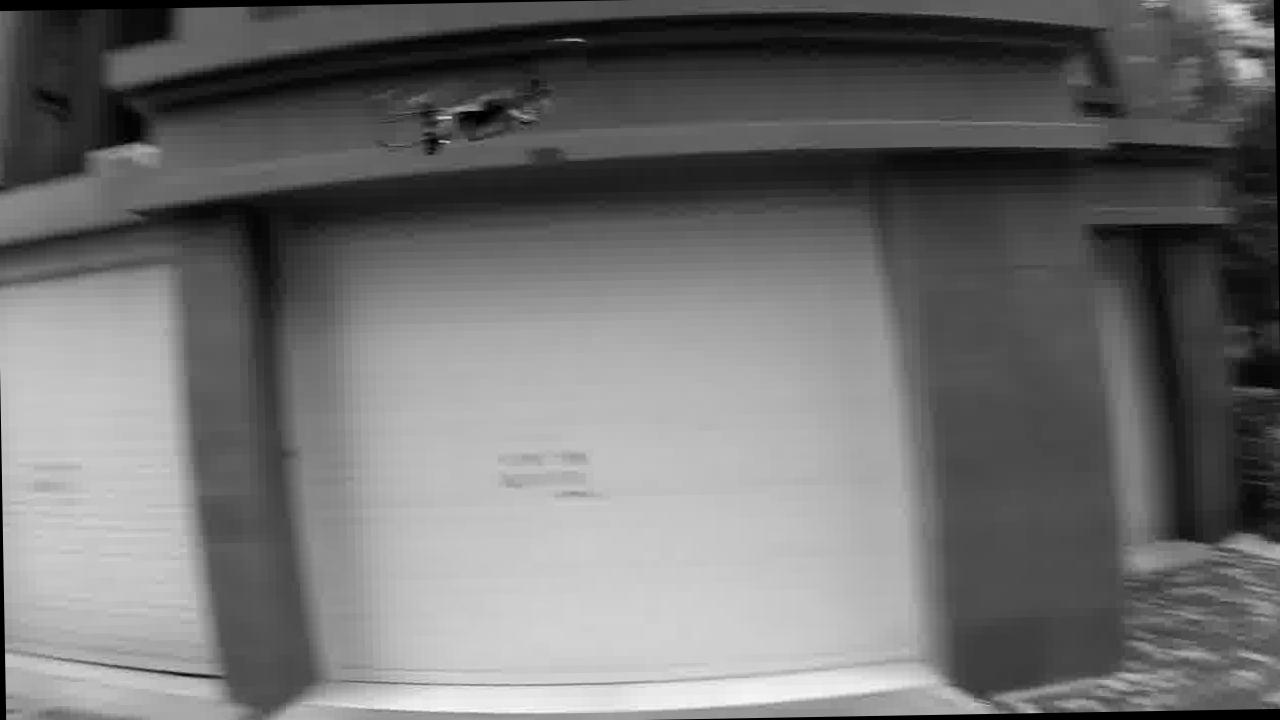drone: (358, 26, 592, 169)
